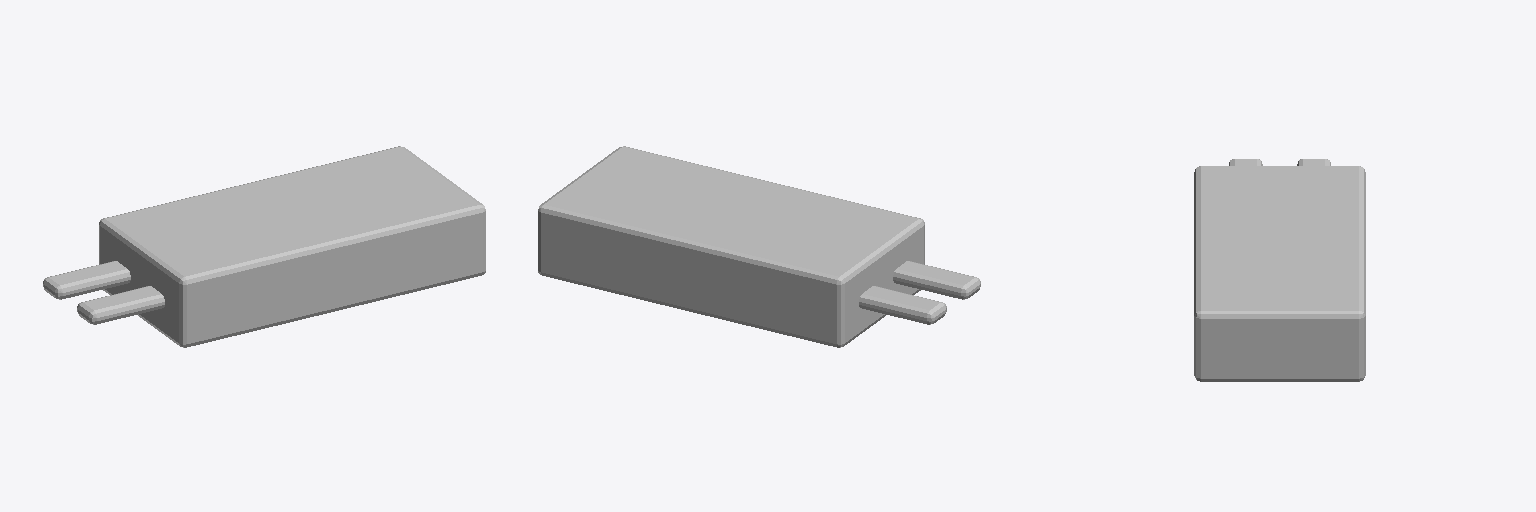
The model's file is Staseur.obj.
3 renders of one model, left to right at view 1: azimuth 30°, elevation 25°; view 2: azimuth 150°, elevation 25°; view 3: azimuth 270°, elevation 25°, orthographic.
Parts seen in each view (by area): view 1: Cube_Cube.001; view 2: Cube_Cube.001; view 3: Cube_Cube.001.
Part boxes in pixels (bbox=[...]): Cube_Cube.001: bbox=[43, 146, 485, 347]; Cube_Cube.001: bbox=[538, 146, 980, 347]; Cube_Cube.001: bbox=[1194, 159, 1365, 381].
Bounding box in the file's own units: 5.12 × 0.9145 × 2.